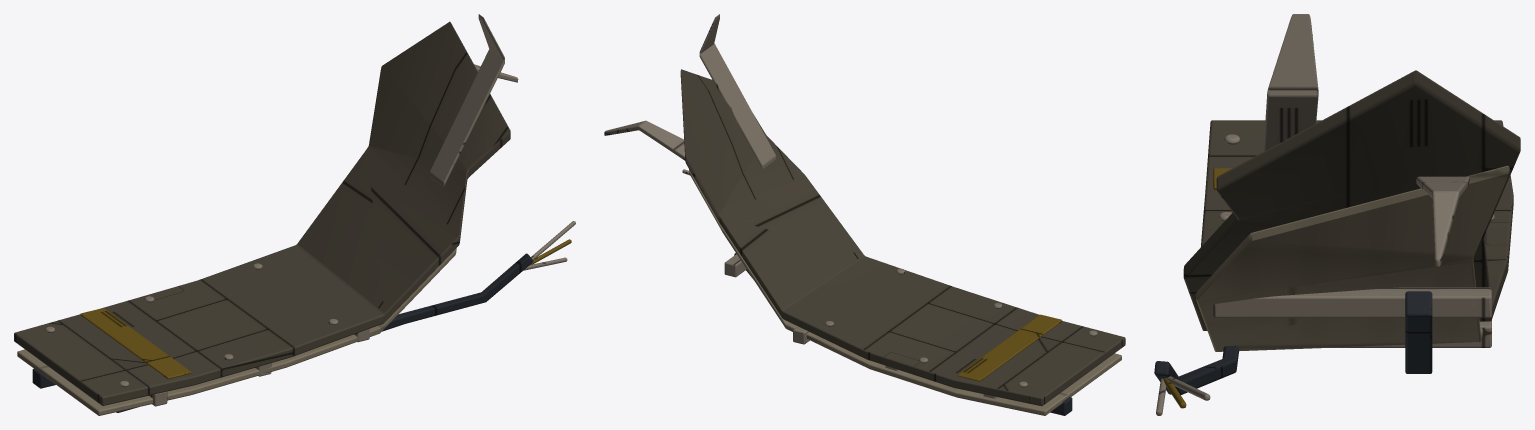
File: cargo-torn-hull-strip_lod0.glb
3 views of the same model, side by side, from view 1: azimuth 30°, elevation 25°; view 2: azimuth 150°, elevation 25°; view 3: azimuth 270°, elevation 25° (orthographic). The views are drawn at different scales.
Visible parts, largest first — view 1: LOD0_Hull, LOD0_BrushedMetal, LOD0_Ceramic, LOD0_Livery, LOD0_Armor; view 2: LOD0_Hull, LOD0_BrushedMetal, LOD0_Ceramic, LOD0_Livery; view 3: LOD0_Hull, LOD0_Ceramic, LOD0_BrushedMetal, LOD0_Armor, LOD0_Livery.
Boxes of the visible parts, x1=… form: LOD0_Hull: x1=14, y1=21, x2=510, y2=405; LOD0_BrushedMetal: x1=45, y1=14, x2=575, y2=406; LOD0_Ceramic: x1=17, y1=248, x2=456, y2=415; LOD0_Livery: x1=80, y1=239, x2=571, y2=379; LOD0_Armor: x1=32, y1=253, x2=533, y2=412; LOD0_Hull: x1=680, y1=69, x2=1125, y2=406; LOD0_BrushedMetal: x1=604, y1=14, x2=1097, y2=398; LOD0_Ceramic: x1=689, y1=169, x2=1121, y2=415; LOD0_Livery: x1=957, y1=314, x2=1062, y2=381; LOD0_Hull: x1=1183, y1=70, x2=1520, y2=330; LOD0_Ceramic: x1=1196, y1=165, x2=1509, y2=351; LOD0_BrushedMetal: x1=1156, y1=14, x2=1494, y2=415; LOD0_Armor: x1=1154, y1=291, x2=1432, y2=394; LOD0_Livery: x1=1163, y1=168, x2=1232, y2=408.
Bounding box in the file's own units: 3.42 × 1.99 × 1.35.
Materials: 5 (5 with a texture image).
